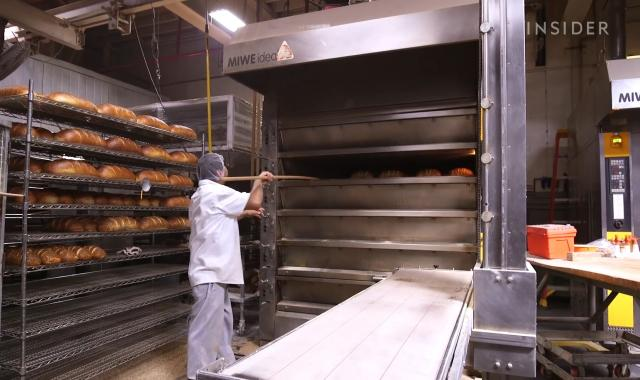hairnet: (196, 153, 227, 183)
